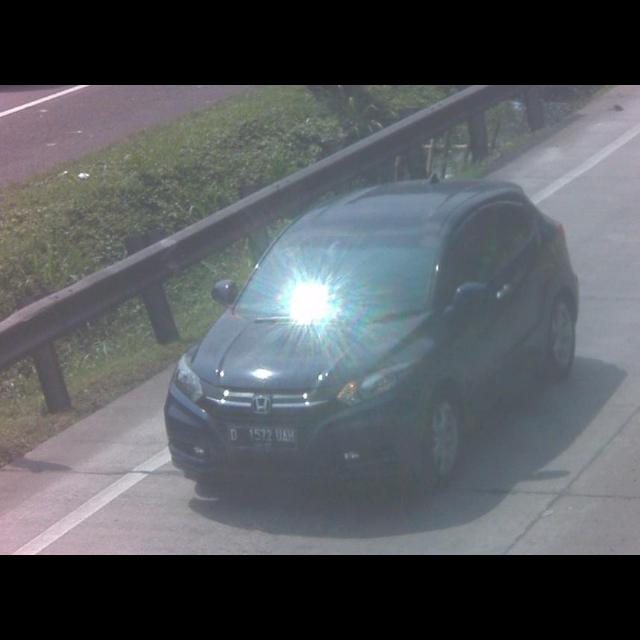plate: (227, 427, 297, 449)
